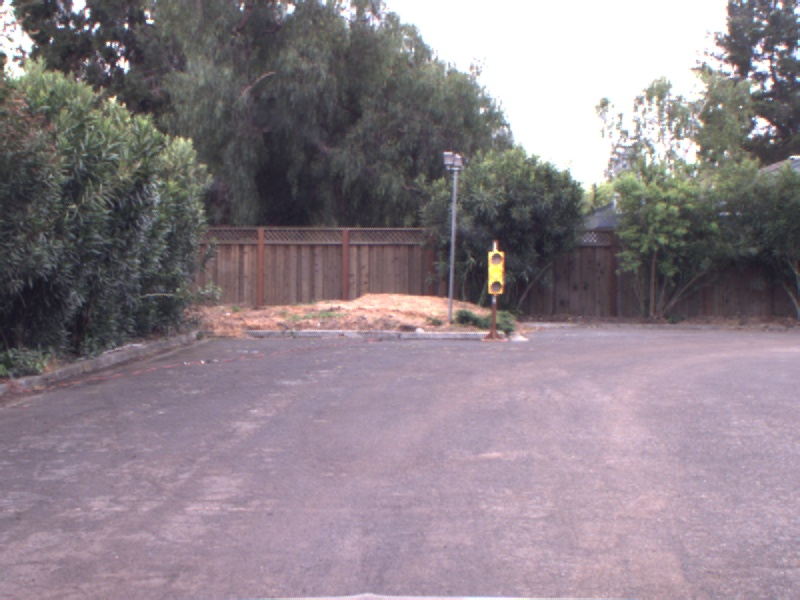yellow: (486, 244, 506, 298)
